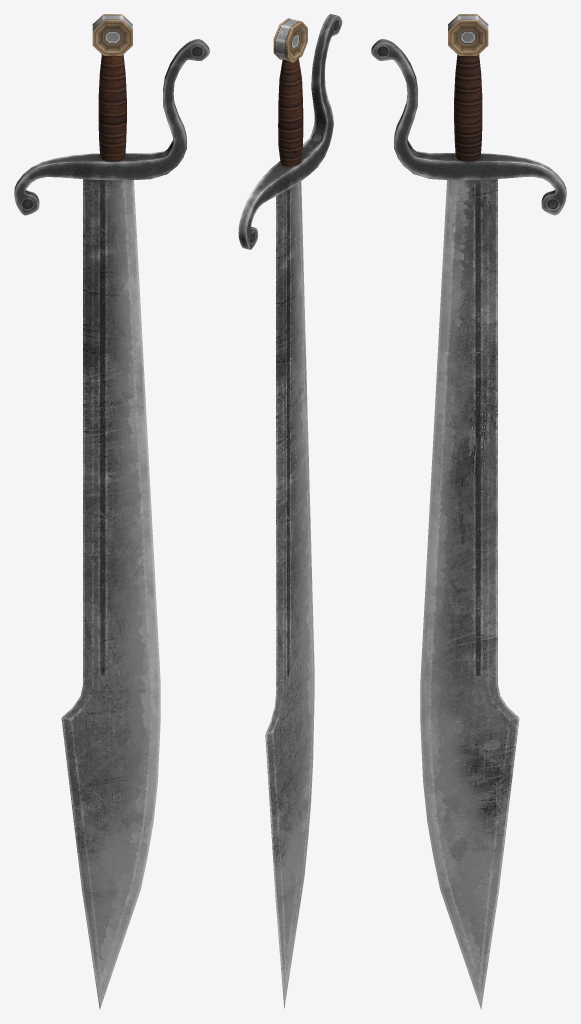
Rendered from Falchion_01.fbx.
3 renders of one model, left to right at view 1: azimuth 90°, elevation 25°; view 2: azimuth 150°, elevation 25°; view 3: azimuth 270°, elevation 25°, orthographic.
Visible parts, largest first — view 1: Falchion_01_LOD0; view 2: Falchion_01_LOD0; view 3: Falchion_01_LOD0.
Part boxes in pixels (left/top/right/bottom): Falchion_01_LOD0: left=14, top=14, right=209, bottom=1009; Falchion_01_LOD0: left=238, top=14, right=342, bottom=1008; Falchion_01_LOD0: left=371, top=14, right=566, bottom=1009.
Size of what is drawn, in the model's own units: 1.83 by 81.7 by 14.56.
